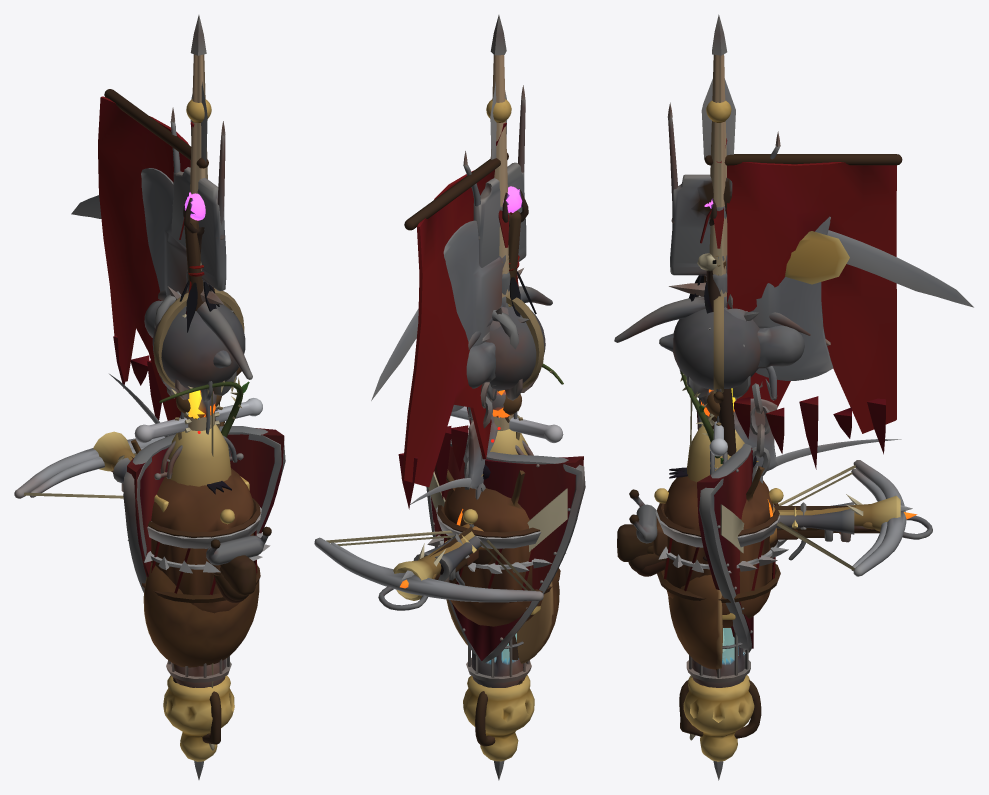
Rendered from armas.glb.
The picture shows the model from 3 angles, left to right: view 1: azimuth 30°, elevation 25°; view 2: azimuth 150°, elevation 25°; view 3: azimuth 270°, elevation 25°; orthographic projection.
Visible parts, largest first — view 1: cuerpo (×26), extra_bola, extra_incensario; view 2: cuerpo (×25), extra_incensario, extra_bola; view 3: cuerpo (×26), extra_bola, extra_incensario.
Part boxes in pixels (box(x1,y1,x2,y2)): cuerpo (×26): box(14, 15, 285, 779); extra_bola: box(152, 304, 245, 390); extra_incensario: box(163, 675, 234, 761); cuerpo (×25): box(314, 15, 585, 780); extra_incensario: box(463, 675, 534, 761); extra_bola: box(485, 306, 545, 390); cuerpo (×26): box(614, 14, 973, 780); extra_bola: box(673, 309, 760, 389); extra_incensario: box(683, 675, 754, 761).
Bounding box in the file's own units: 0.6233 × 2 × 0.8523.
